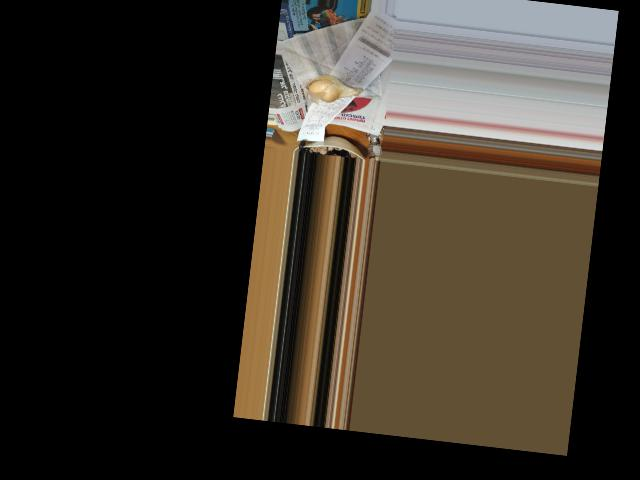onion: (303, 71, 357, 107)
